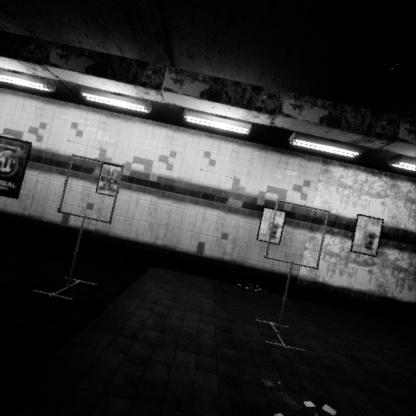gate: (58, 191, 129, 263), (265, 145, 335, 217)
